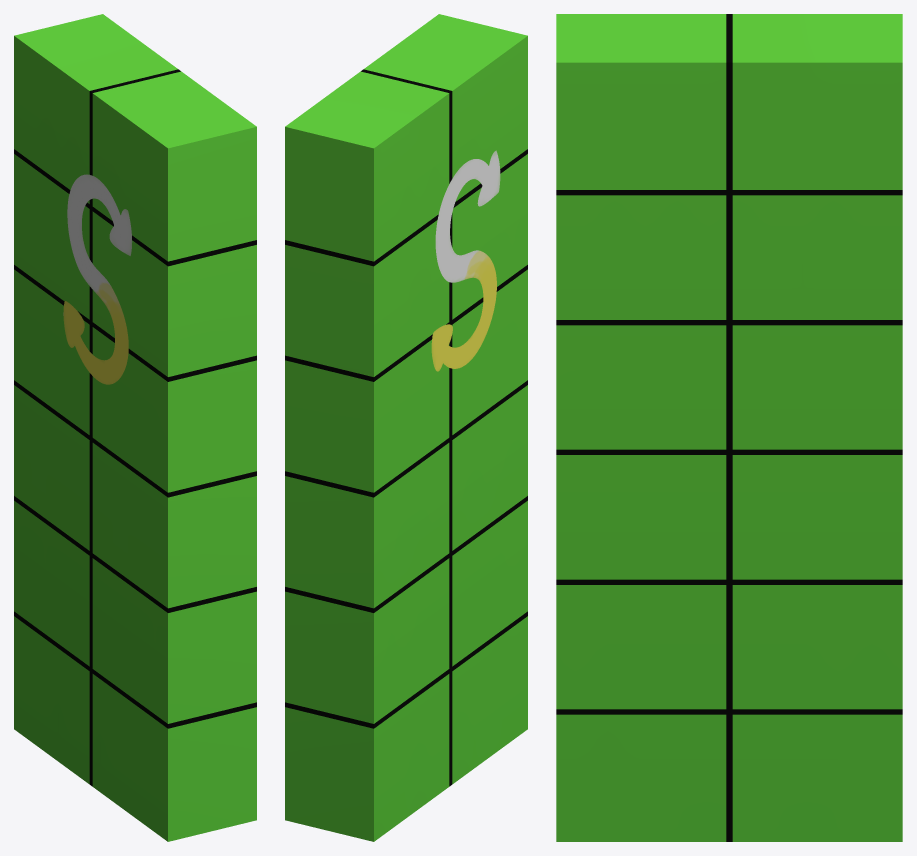
Rendered from BigPole.fbx.
3 renders of one model, left to right at view 1: azimuth 30°, elevation 25°; view 2: azimuth 150°, elevation 25°; view 3: azimuth 270°, elevation 25°, orthographic. The views are drawn at different scales.
Parts seen in each view (by area): view 1: BigPole; view 2: BigPole; view 3: BigPole.
Boxes of the visible parts, x1,y1,x2,y2 form: BigPole: [14, 14, 256, 841]; BigPole: [285, 14, 527, 841]; BigPole: [556, 14, 902, 841].
Size of the model in its own units: 52.33 by 373 by 150.
